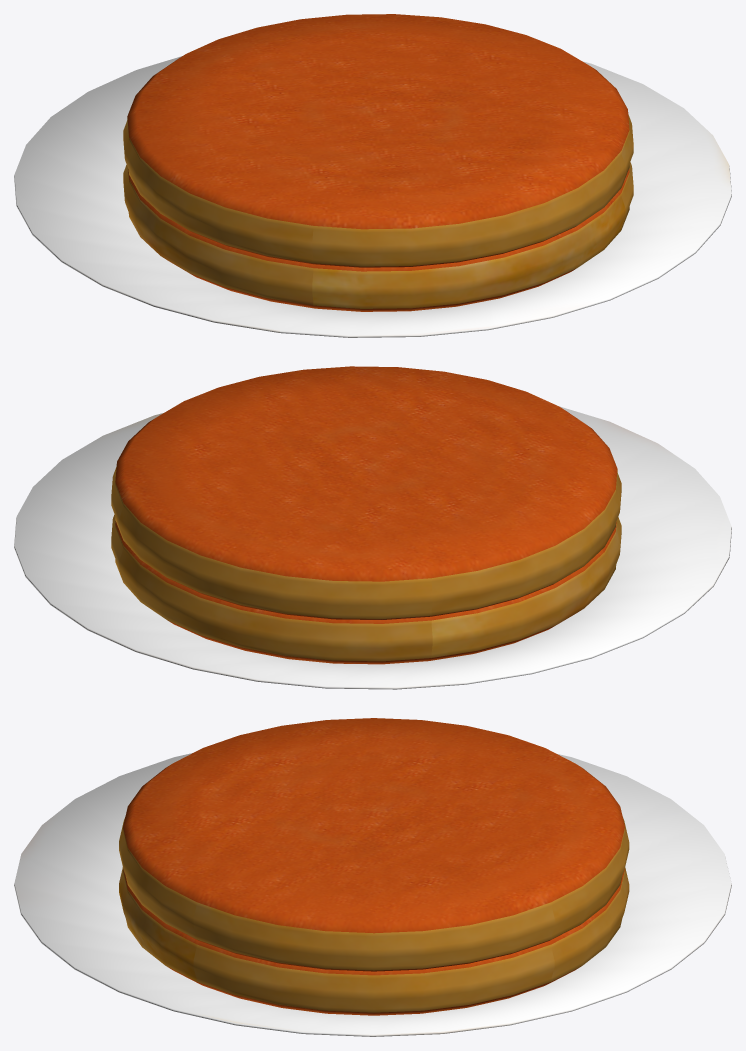
Rendered from Pancakes_eat.fbx.
3 views of the same model, one above another, from view 1: azimuth 30°, elevation 25°; view 2: azimuth 150°, elevation 25°; view 3: azimuth 270°, elevation 25° (orthographic).
Parts seen in each view (by area): view 1: Pancakes; view 2: Pancakes; view 3: Pancakes.
Boxes of the visible parts, box(x1,y1,x2,y2) form: Pancakes: box(14, 14, 731, 337); Pancakes: box(14, 366, 731, 689); Pancakes: box(14, 718, 731, 1036).
Size of the model in its own units: 75.82 by 14.65 by 75.82.
1 material, 1 textured.
